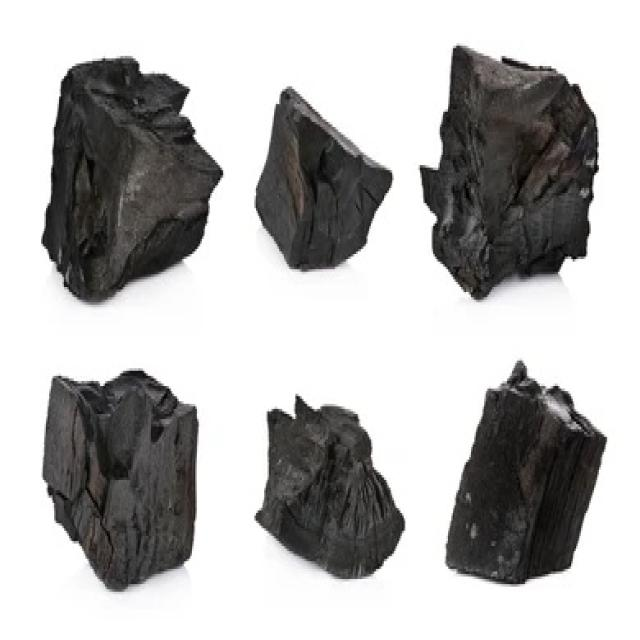Sedimentary: (410, 25, 616, 308), (36, 46, 223, 312), (440, 356, 615, 614), (40, 360, 218, 596), (252, 381, 408, 602), (243, 81, 394, 297)
